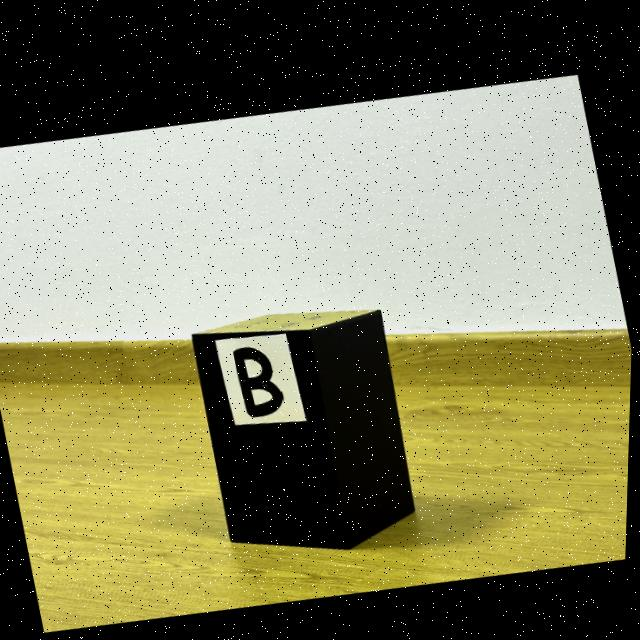B: (235, 341, 285, 411)
